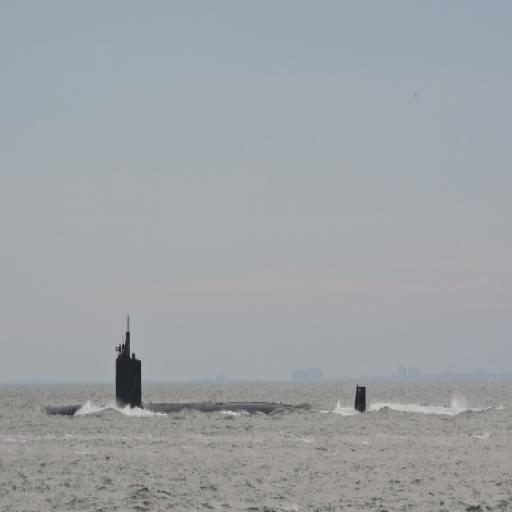submarine: (50, 309, 374, 418)
